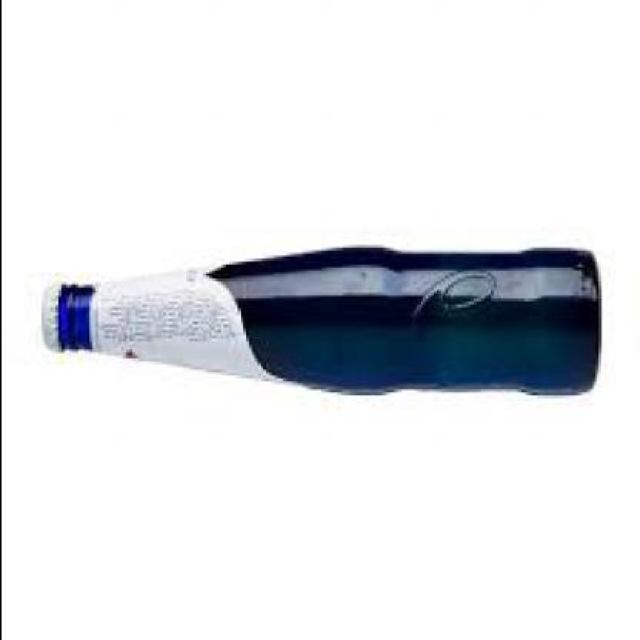GLASS: (54, 244, 595, 398)
METAL: (37, 279, 54, 344)
